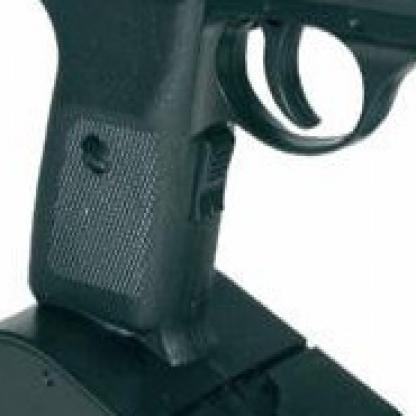gun: (0, 0, 414, 357)
